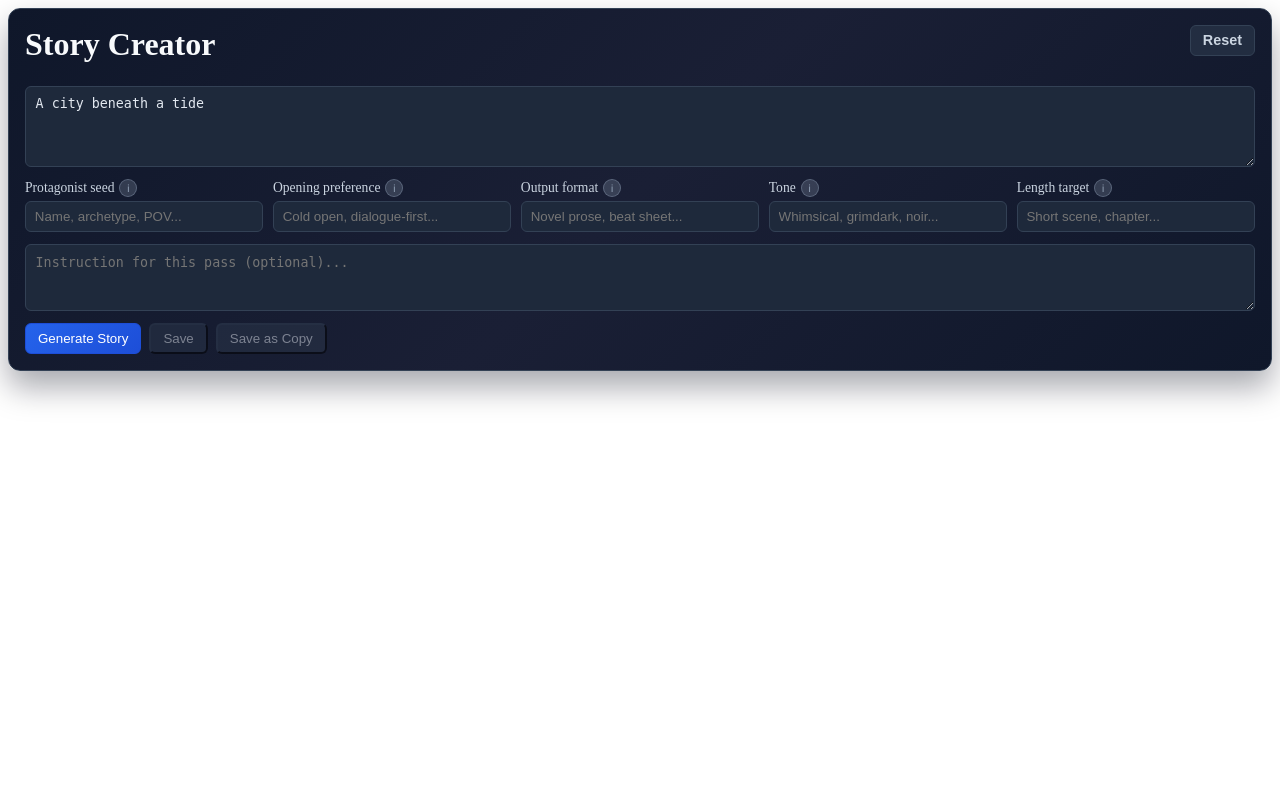
StoryPage › renders progressive Story output from the streaming endpoint
Click the button "Generate Story". click: [83, 338]
box: [25,322,141,354]
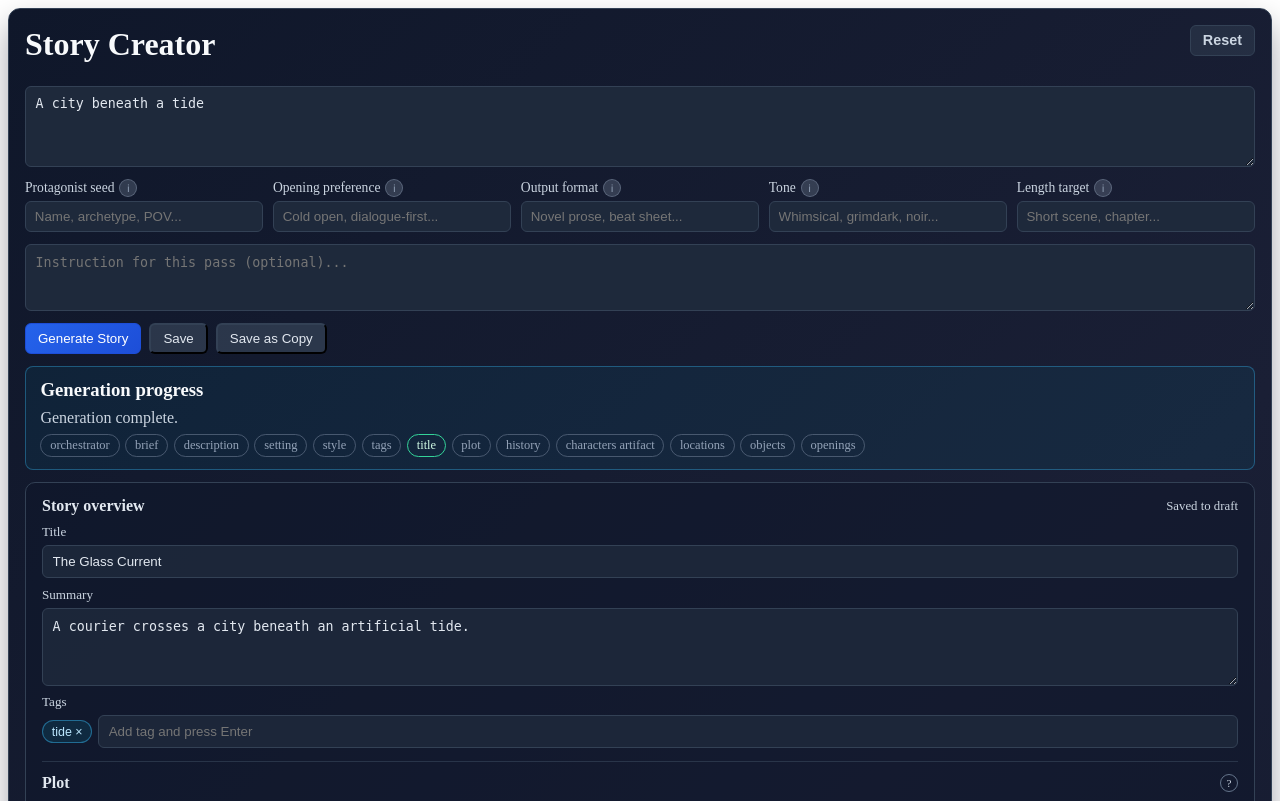
Result: the field named "Story title" holds "The Glass Current" at [42,545,1238,578]
Result: the heading "Generation progress" is shown at [40,379,203,400]
Result: the text "title" is shown at [407,434,446,457]
